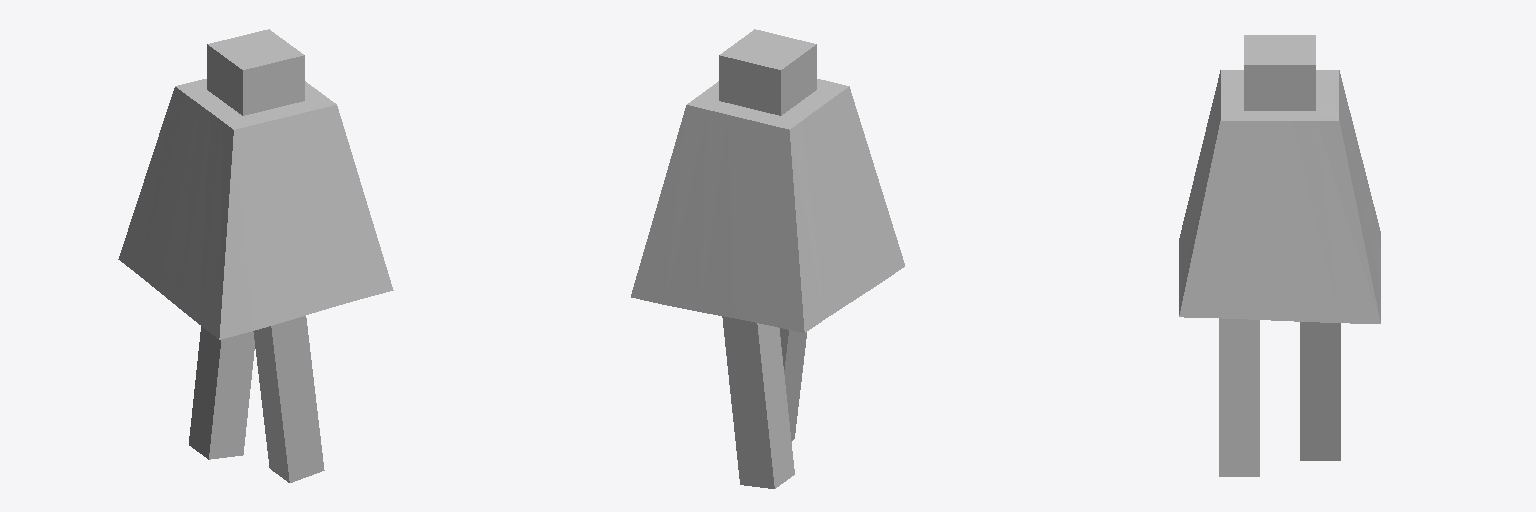
Rendered from essai_000022.obj.
3 renders of one model, left to right at view 1: azimuth 30°, elevation 25°; view 2: azimuth 150°, elevation 25°; view 3: azimuth 270°, elevation 25°, orthographic.
Visible parts, largest first — view 1: Cube; view 2: Cube; view 3: Cube.
Boxes of the visible parts, x1,y1,x2,y2 form: Cube: [118, 29, 393, 482]; Cube: [631, 29, 904, 488]; Cube: [1179, 35, 1380, 476].
Size of the model in its own units: 2 by 4.51 by 2.